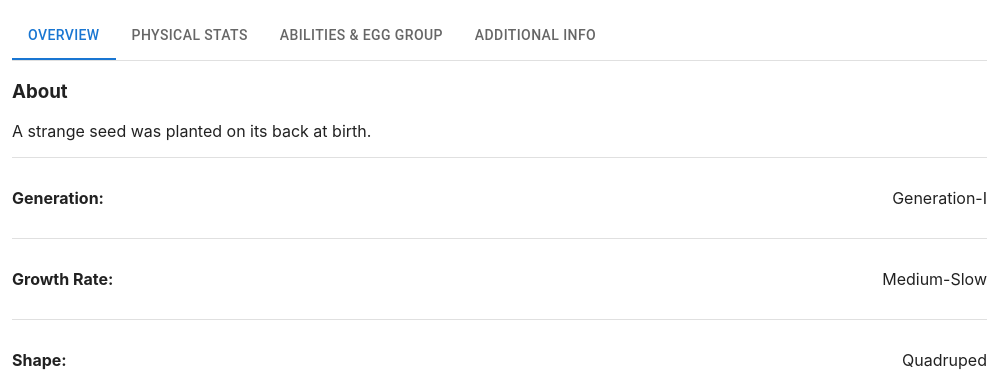
it: Bio Component › switches to 'Abilities & Egg Group' tab and displays abilities and egg groups
Click the tab "Abilities & Egg Group": click(361, 36) [264,12,459,60]
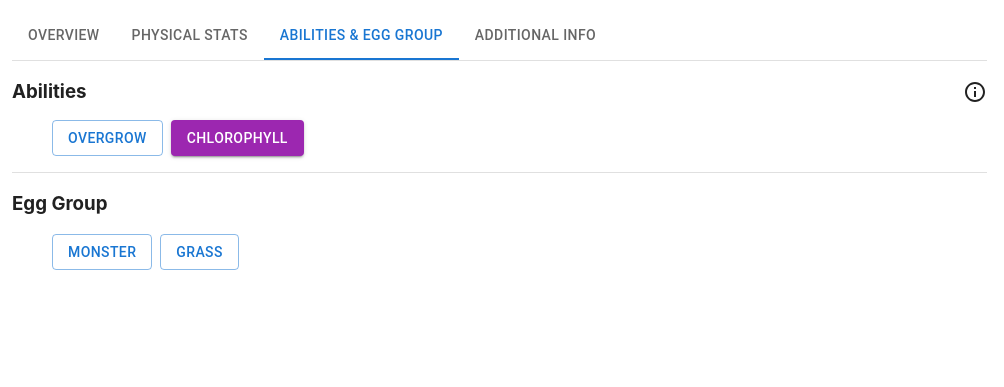
Now the button "overgrow" is shown, box [52,120,163,156]
Now the button "chlorophyll" is shown, box [171,120,304,156]
Now the heading "Egg Group" is shown, box [12,192,108,215]
